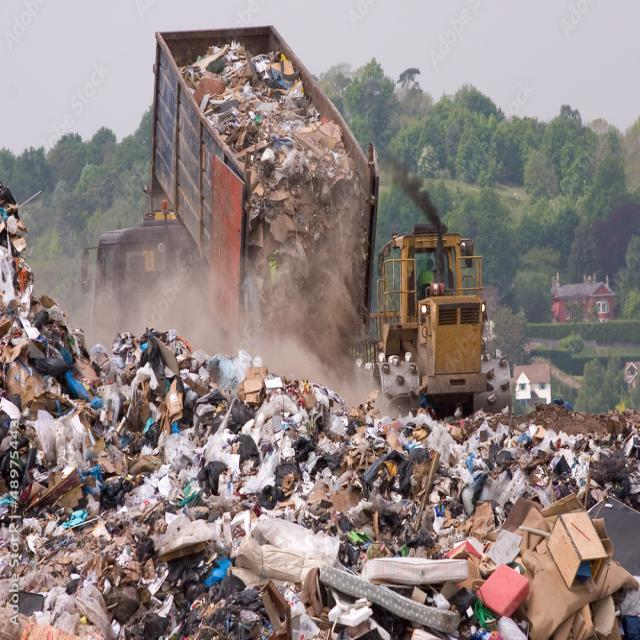cardboard: (510, 497, 613, 629)
trash: (18, 318, 398, 626), (203, 50, 361, 340), (515, 409, 624, 486), (5, 193, 33, 304)
